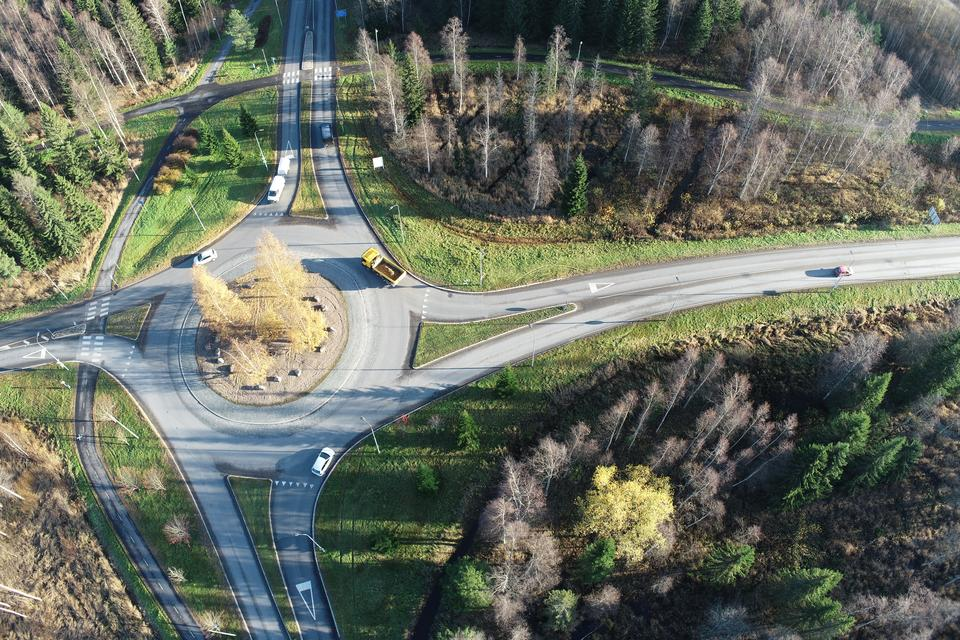intersection: (65, 278, 127, 385), (267, 50, 357, 97)
roundabout: (135, 155, 492, 489)
